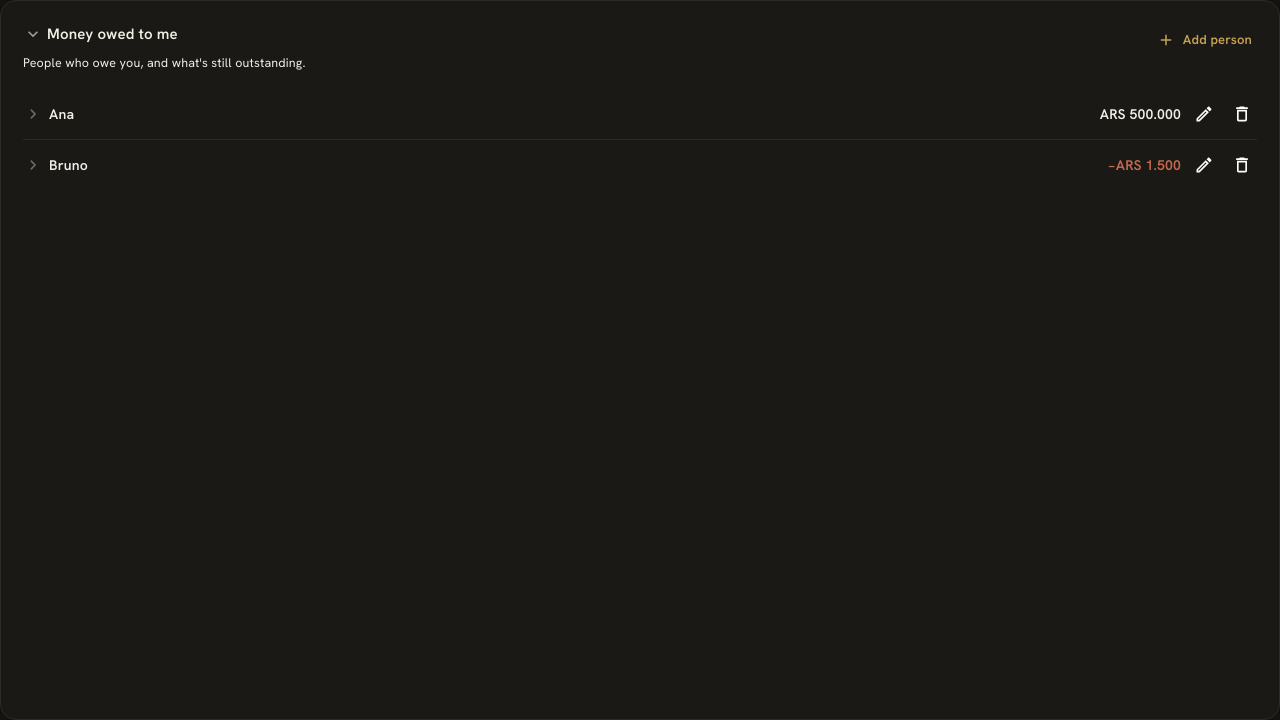
ReceivablesSection › cancelling the delete-person confirm does nothing
Check: the text "Ana" is shown, box [49,104,74,124]
Click the button named "Delete Ana". click: (1242, 114)
box: [1227,99,1257,129]
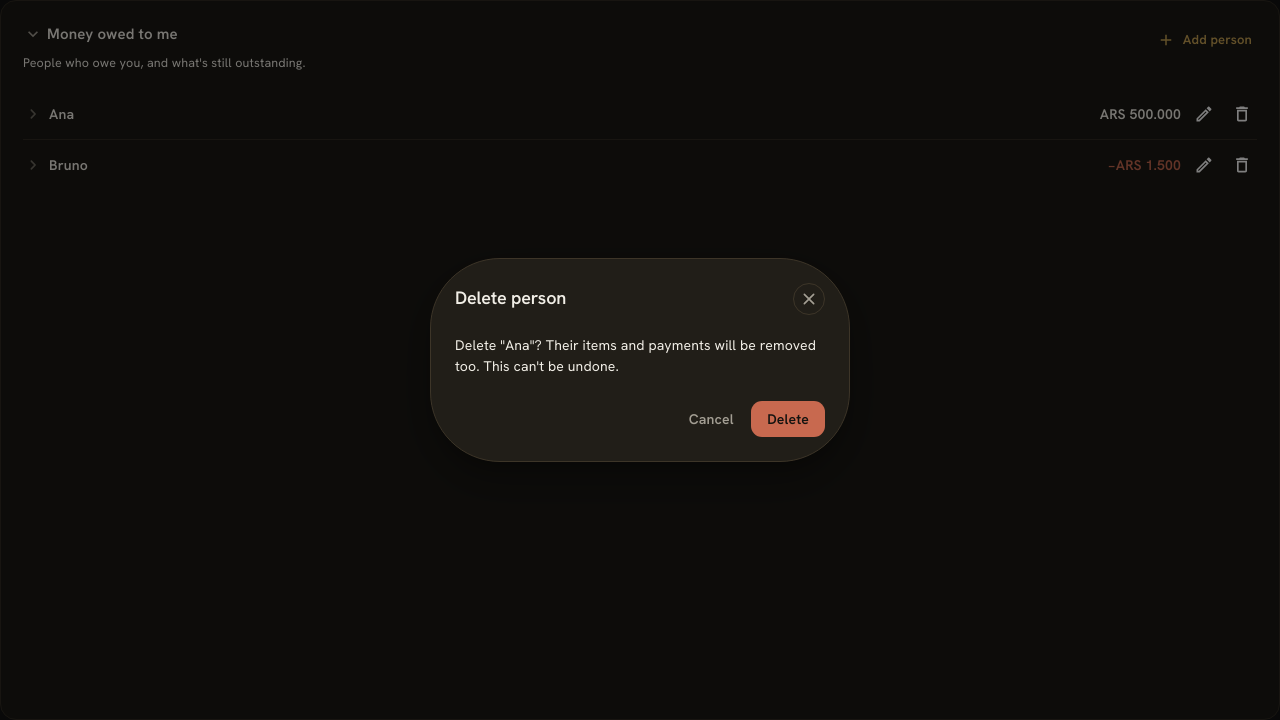
Click the button "Cancel". click: (711, 419)
box: [679,401,743,437]
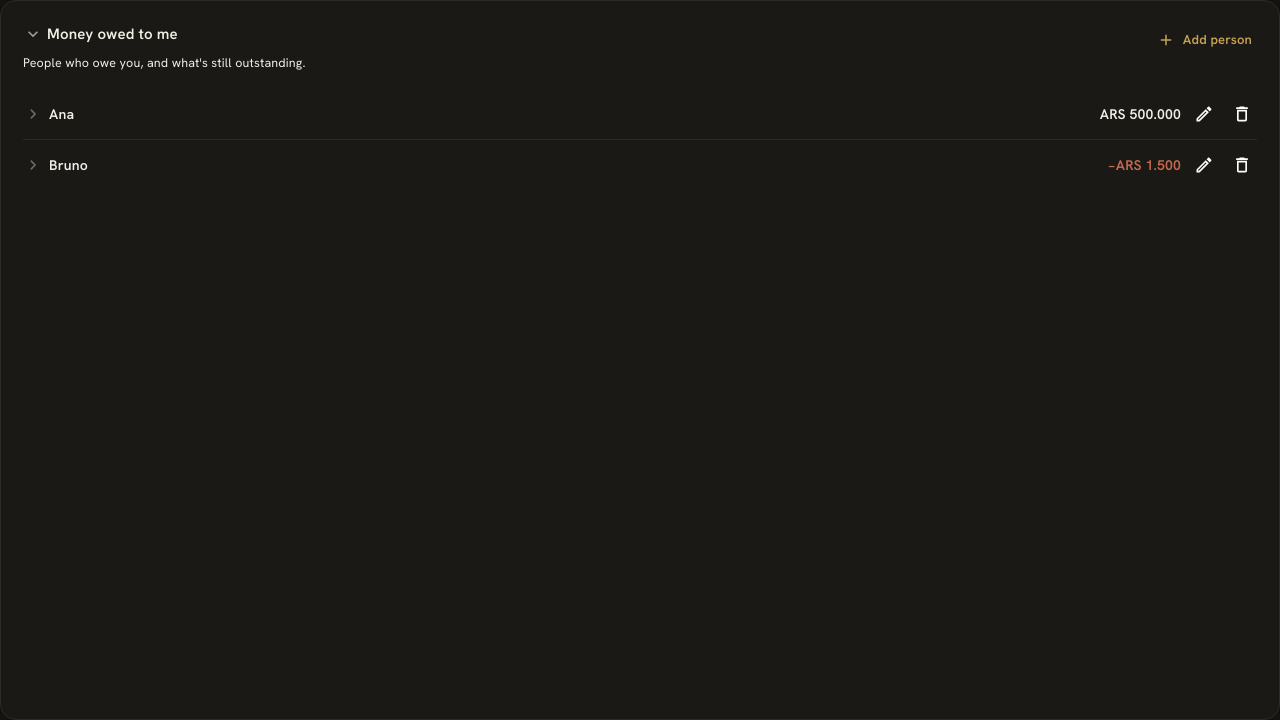
Check: the text "Ana" is shown, box [49,104,74,124]
Check: the dialog is gone
